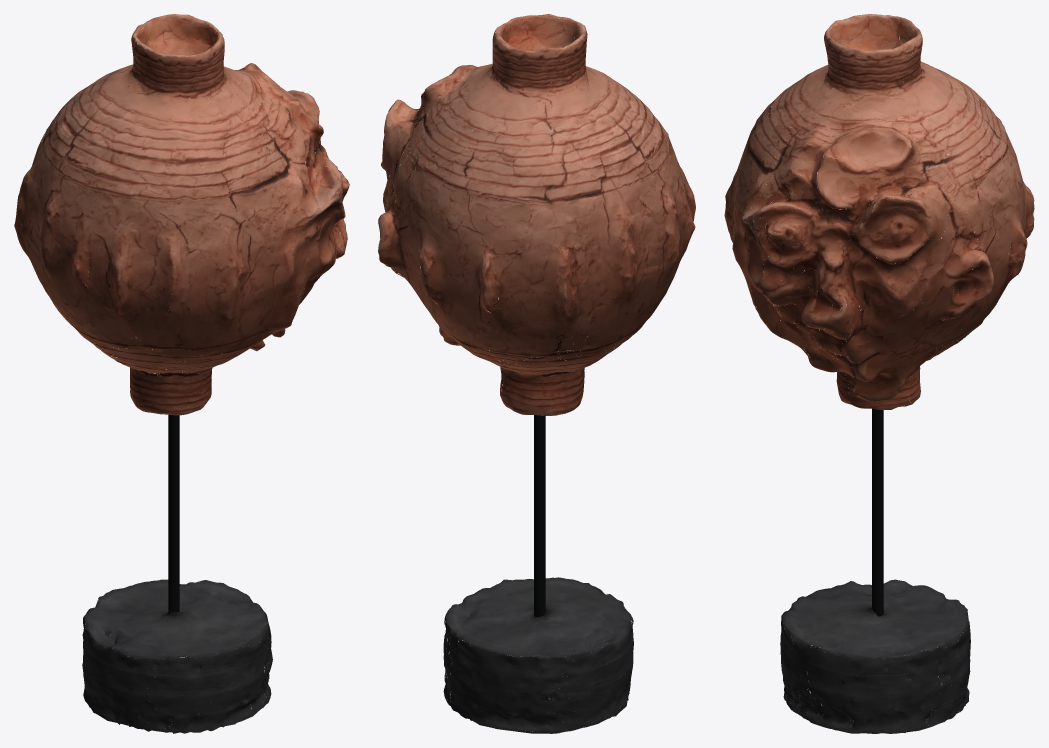
File: hangari1.glb
3 renders of one model, left to right at view 1: azimuth 30°, elevation 25°; view 2: azimuth 150°, elevation 25°; view 3: azimuth 270°, elevation 25°, orthographic.
Visible parts, largest first — view 1: Mesh_0_Part_0, Cylinder; view 2: Mesh_0_Part_0, Cylinder; view 3: Mesh_0_Part_0, Cylinder.
Boxes of the visible parts, x1=… form: Mesh_0_Part_0: x1=14, y1=14, x2=349, y2=733; Cylinder: x1=168, y1=414, x2=179, y2=613; Mesh_0_Part_0: x1=378, y1=14, x2=695, y2=733; Cylinder: x1=534, y1=415, x2=545, y2=657; Mesh_0_Part_0: x1=724, y1=14, x2=1034, y2=733; Cylinder: x1=872, y1=408, x2=883, y2=658.
Size of the model in its own units: 5.69 by 12.57 by 5.31.
2 materials, 1 textured.
